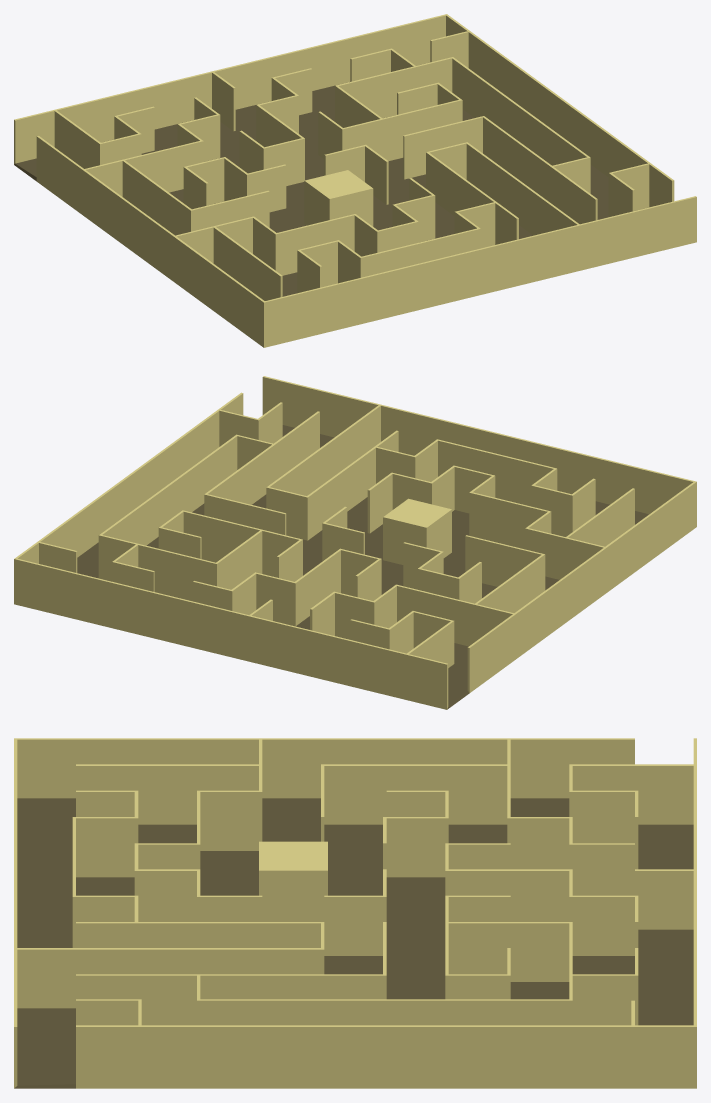
File: labyrinth.glb
The picture shows the model from 3 angles, top to bottom: view 1: azimuth 30°, elevation 25°; view 2: azimuth 150°, elevation 25°; view 3: azimuth 270°, elevation 25°; orthographic projection. The views are drawn at different scales.
Visible parts, largest first — view 1: Plane; view 2: Plane; view 3: Plane.
Part boxes in pixels (box(x1,y1,x2,y2)): Plane: box(14, 14, 696, 347); Plane: box(14, 376, 696, 709); Plane: box(14, 738, 696, 1088).
Bounding box in the file's own units: 100 × 10.01 × 100.
